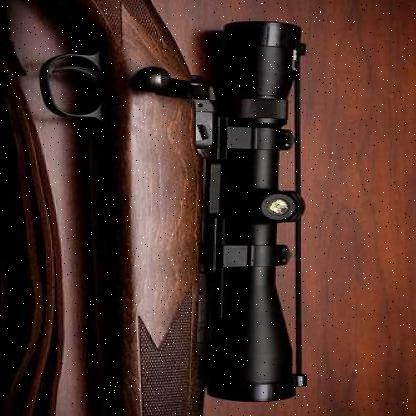rifle: (30, 0, 316, 405)
